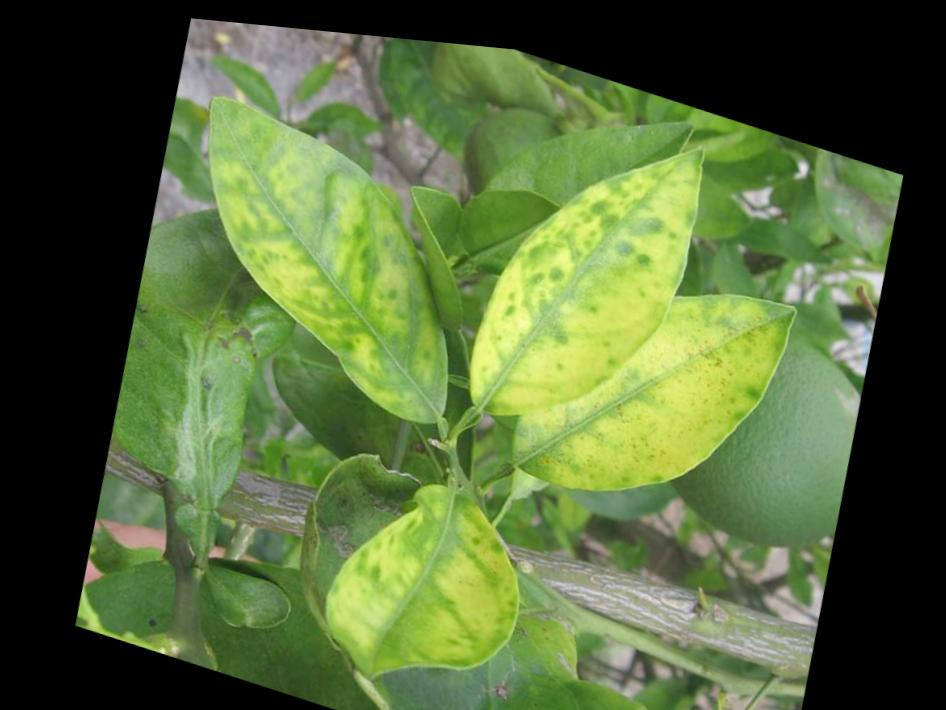Citrus Greening: (150, 76, 504, 428), (442, 65, 720, 460), (498, 208, 809, 539), (298, 433, 546, 710)
